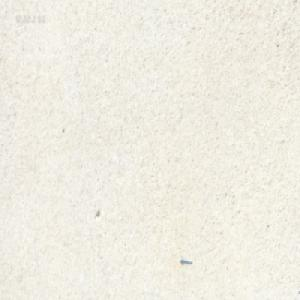Nail: (179, 256, 192, 265)
